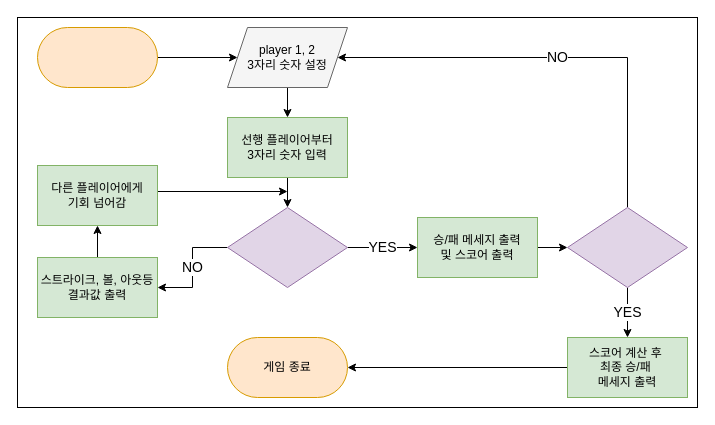
Some shapes in this 715 by 425 pixel diagram are drawn without their labels. Each missing label, with the centre of its shape:
"게임 시작" goes at pixel 97 57.
"라운드가 끝이 났는가?" goes at pixel 627 247.
"입력값이 정답과 같은가?" goes at pixel 287 247.
